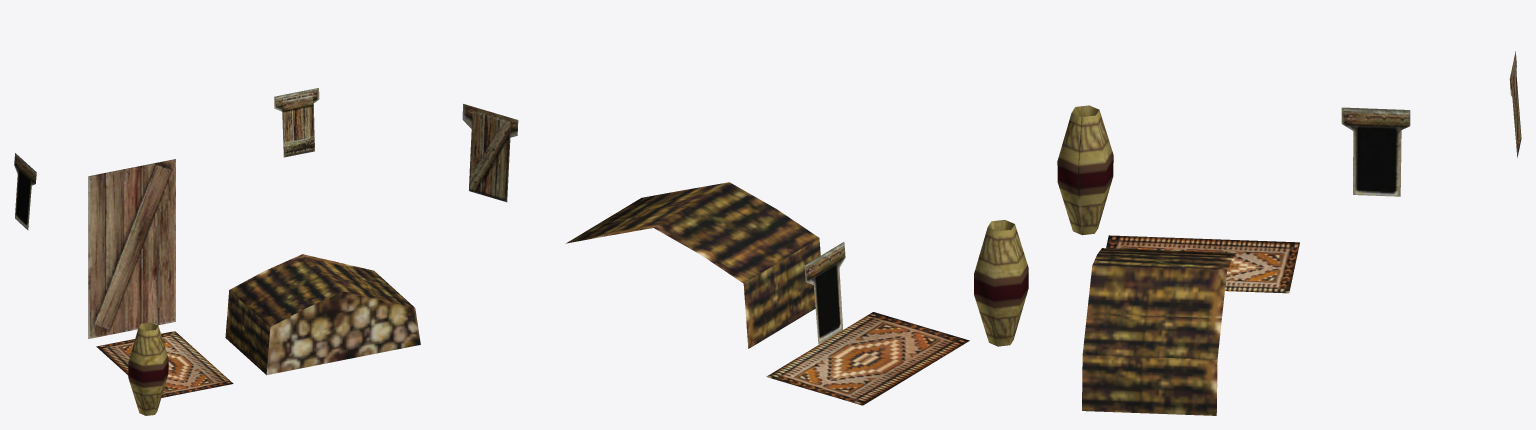
File: iber_house_a_2.glb
3 renders of one model, left to right at view 1: azimuth 30°, elevation 25°; view 2: azimuth 150°, elevation 25°; view 3: azimuth 270°, elevation 25°, orthographic. The views are drawn at different scales.
Parts seen in each view (by area): view 1: Object1002; view 2: Object1002; view 3: Object1002.
Part boxes in pixels (x1,y1,x2,y2): Object1002: (14,88,420,415); Object1002: (462,104,1028,405); Object1002: (1057,51,1521,415).
Size of the model in its own units: 7.92 by 5.54 by 7.38.
1 material, 1 textured.
